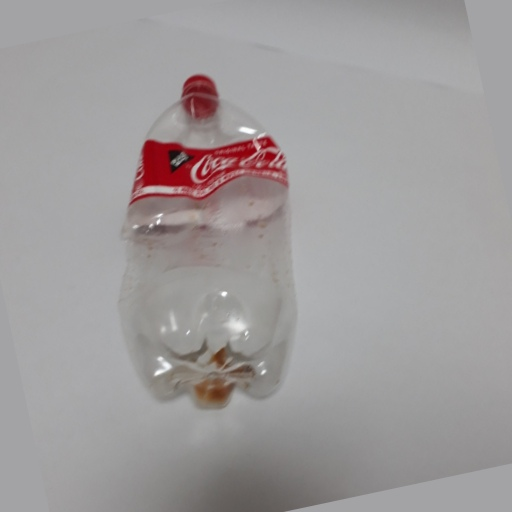Plastic_0: (113, 66, 305, 421)
